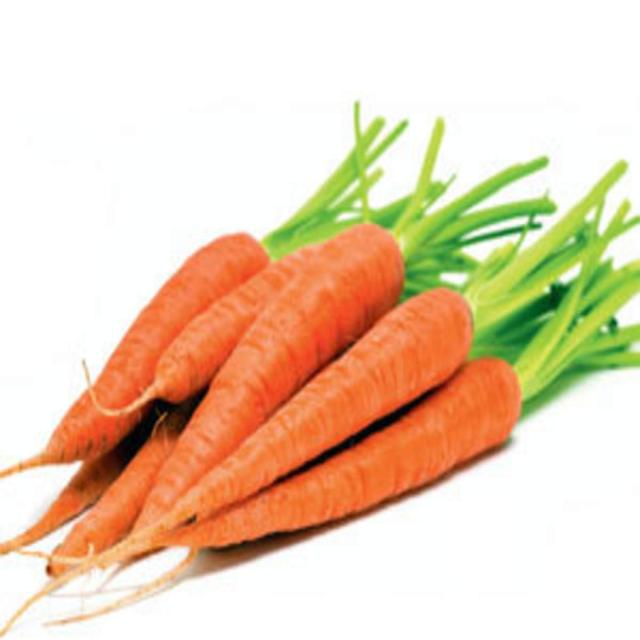Fresh_Carrot: (44, 220, 491, 624), (133, 286, 473, 530), (116, 235, 408, 519), (156, 363, 527, 546), (56, 236, 275, 473), (139, 233, 363, 391)
